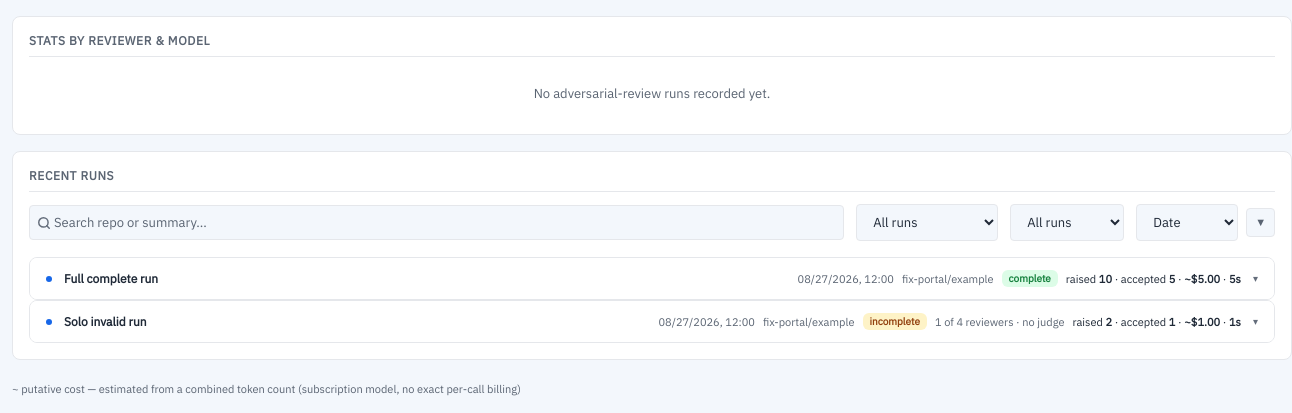
Test: AdversarialReviewPanel run status filters › filters to invalid runs (below the minimum reviewer threshold)
This screenshot has width=1292, height=413.
Select "Invalid only" in the dropdown named "Filter runs by validity" at (1067, 222), box x1=1010 y1=204 x2=1124 y2=241
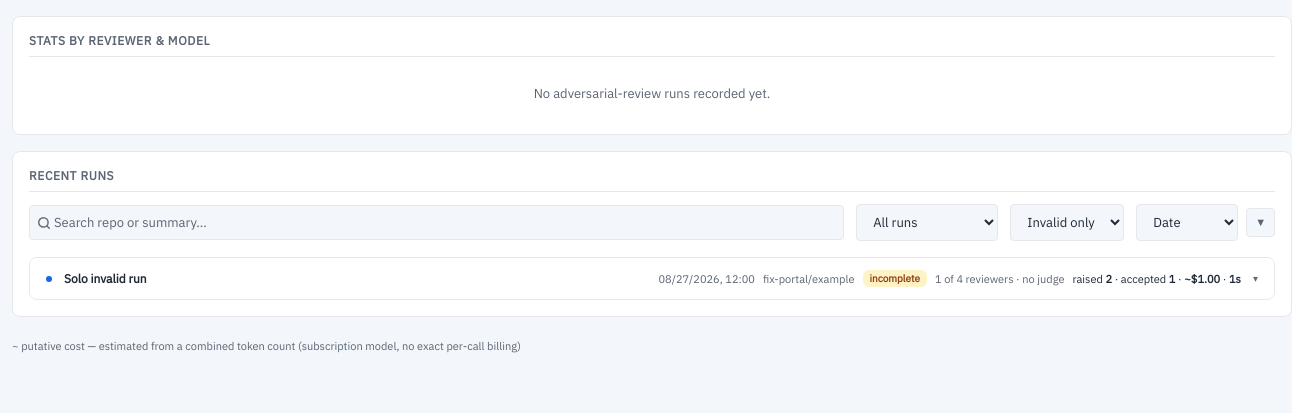
Expected: the text "Solo invalid run" is shown, x1=64 y1=271 x2=146 y2=286
Expected: the button "Full complete run" is gone
